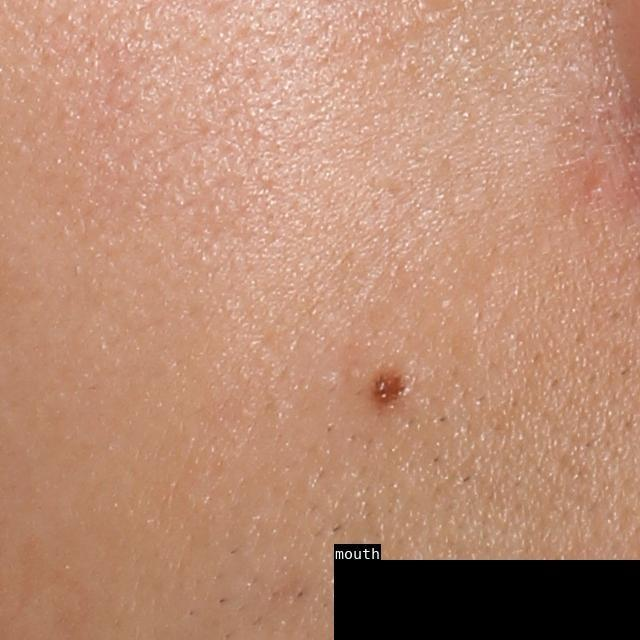nevus: (369, 364, 408, 409)
